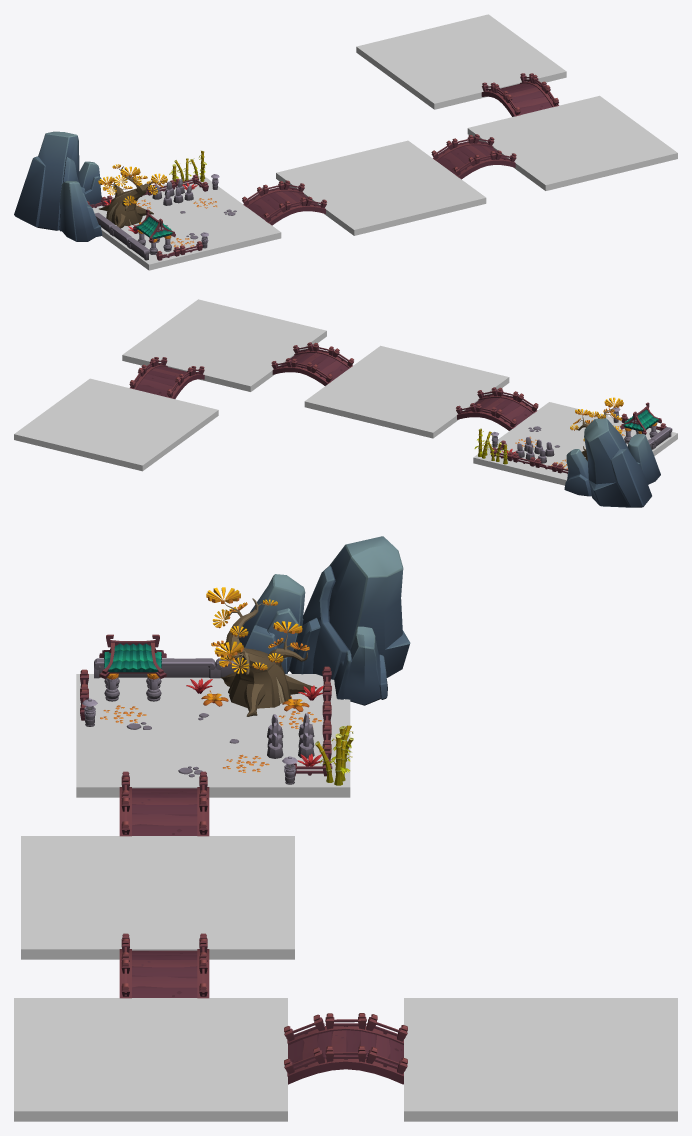
The picture shows the model from 3 angles, top to bottom: view 1: azimuth 30°, elevation 25°; view 2: azimuth 150°, elevation 25°; view 3: azimuth 270°, elevation 25°; orthographic projection. The views are drawn at different scales.
Parts seen in each view (by area): view 1: Cube.001, Cube.005, Cube.002, Cube, rock_big_3.001, ancient_tree_yellow_1.001, bridge.005, bridge.001, bridge.002, rock_big_2.001, shrine_2.001, rock_medium_4.001; view 2: Cube.002, Cube.001, Cube.005, Cube, rock_big_3.001, bridge.005, bridge.001, bridge.002, rock_medium_4.001, rock_big_2.001, shrine_2.001, ancient_tree_yellow_1.001; view 3: Cube.005, Cube.002, Cube.001, Cube, rock_big_3.001, bridge.002, ancient_tree_yellow_1.001, bridge.001, bridge.005, rock_big_2.001, rock_medium_4.001, shrine_2.001 (+1 smaller).
Boxes of the visible parts, x1,y1,x2,y2 form: Cube.001: (276,140,486,235); Cube.005: (467,95,677,190); Cube.002: (356,14,566,109); Cube: (92,176,281,270); rock_big_3.001: (14,131,84,231); ancient_tree_yellow_1.001: (98,164,167,228); bridge.005: (431,134,516,179); bridge.001: (242,180,326,225); bridge.002: (481,73,559,116); rock_big_2.001: (59,181,102,241); shrine_2.001: (133,209,175,254); rock_medium_4.001: (79,161,101,205); Cube.002: (14,378,218,471); Cube.001: (304,345,509,438); Cube.005: (122,299,326,391); Cube: (473,402,677,485); rock_big_3.001: (584,418,651,507); bridge.005: (271,342,353,385); bridge.001: (456,387,538,430); bridge.002: (129,357,204,398); rock_medium_4.001: (564,449,591,496); rock_big_2.001: (627,433,660,484); shrine_2.001: (620,402,661,443); ancient_tree_yellow_1.001: (570,397,623,460); Cube.005: (14,998,287,1121); Cube.002: (404,998,677,1121); Cube.001: (21,836,294,959); Cube: (76,674,350,797); rock_big_3.001: (289,536,410,679); bridge.002: (284,1013,407,1084); ancient_tree_yellow_1.001: (206,587,316,716); bridge.001: (119,771,209,836); bridge.005: (119,933,209,998); rock_big_2.001: (227,574,305,673); rock_medium_4.001: (334,626,387,705); shrine_2.001: (99,634,166,701).
Bounding box in the file's own units: 61.63 × 8.5 × 36.05.
32 materials, 32 textured.
